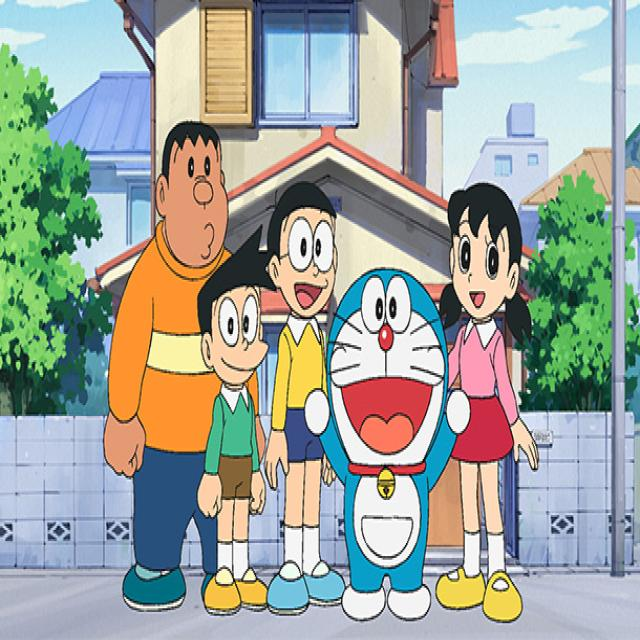doraemon: (322, 265, 454, 483)
jaian: (151, 110, 236, 276)
nobita: (263, 174, 340, 316)
shizuka: (434, 175, 533, 351)
suneo: (195, 222, 276, 384)
